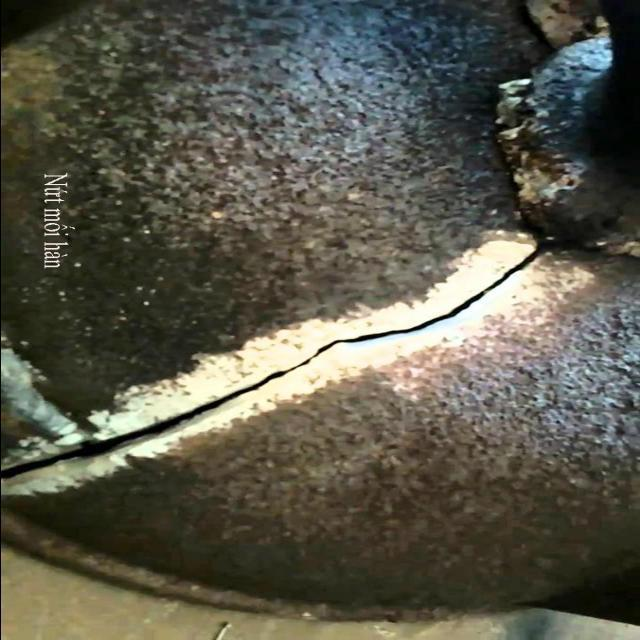Crack: (3, 240, 562, 484)
